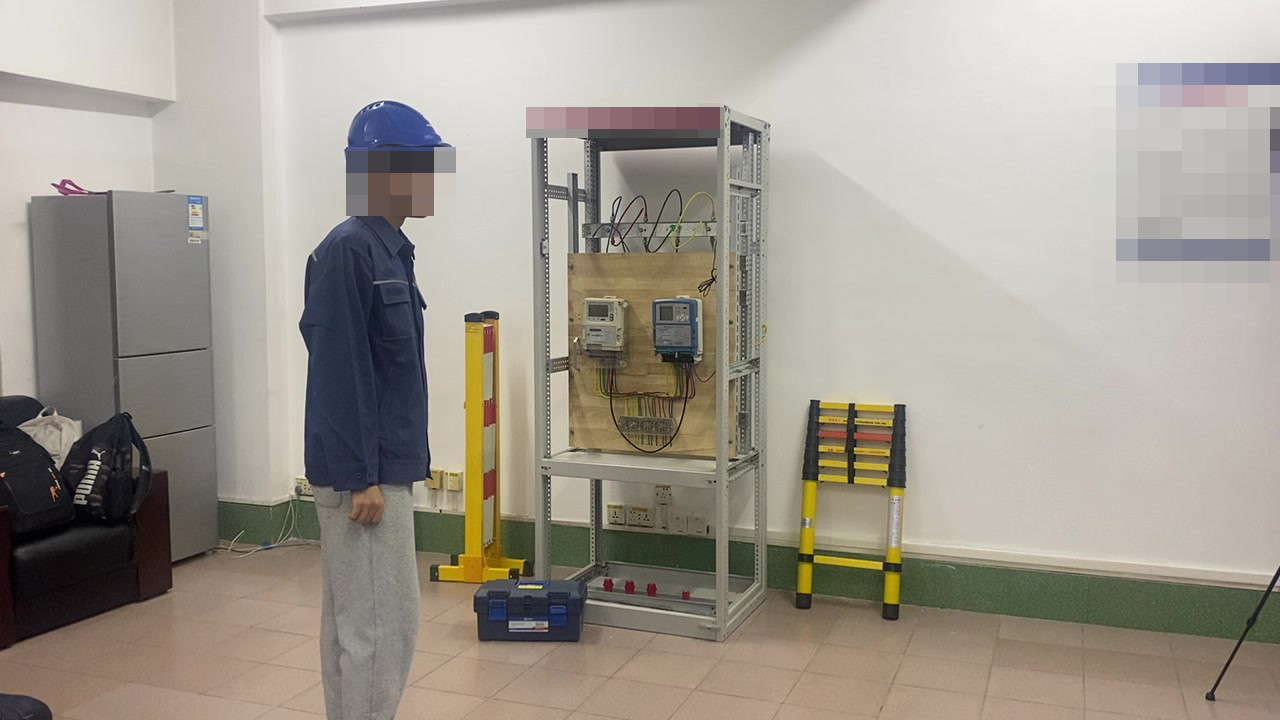downcloth: (315, 503, 424, 720)
halt: (341, 102, 452, 221)
hand: (349, 479, 387, 532)
noear: (362, 148, 404, 210)
person: (291, 100, 457, 719)
upsuit: (299, 212, 438, 483)
